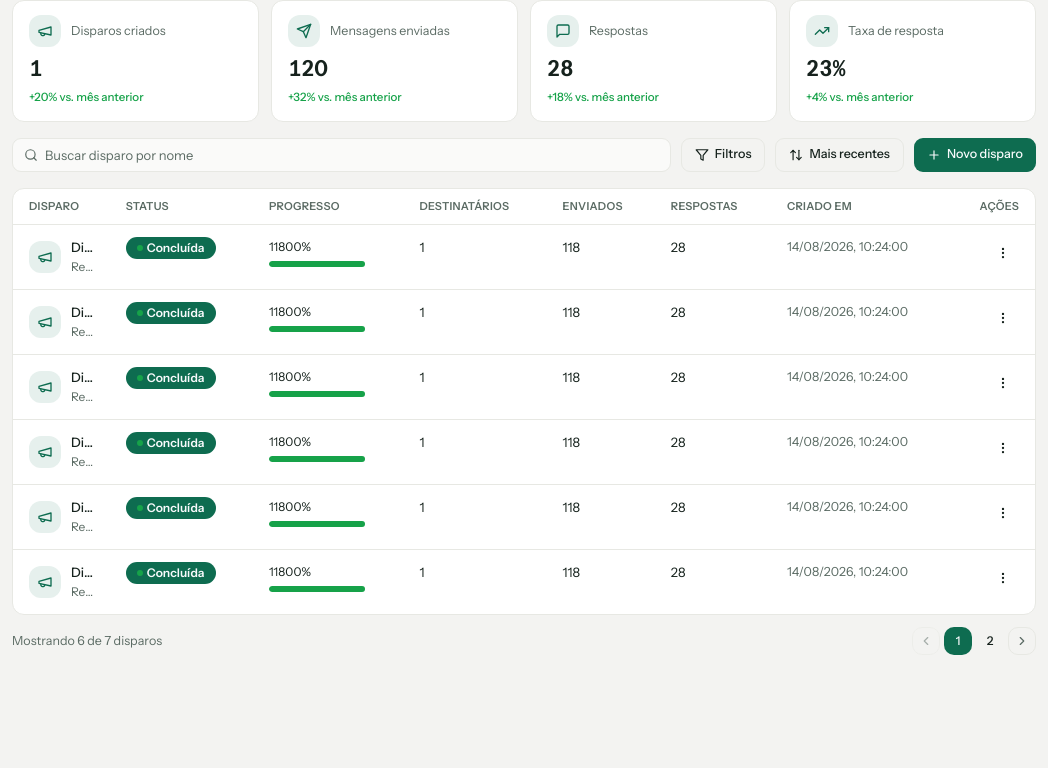
Test case: CampaignsPanel (retrofit visual 2026-08-18) › paginação: mostra "Mostrando X de Y" e navega para a página seguinte
Expected: the text "Mostrando 6 de 7 disparos" is shown, [12,632,162,650]
Click the button named "Próxima página": (1022, 641) [1008,627,1036,655]
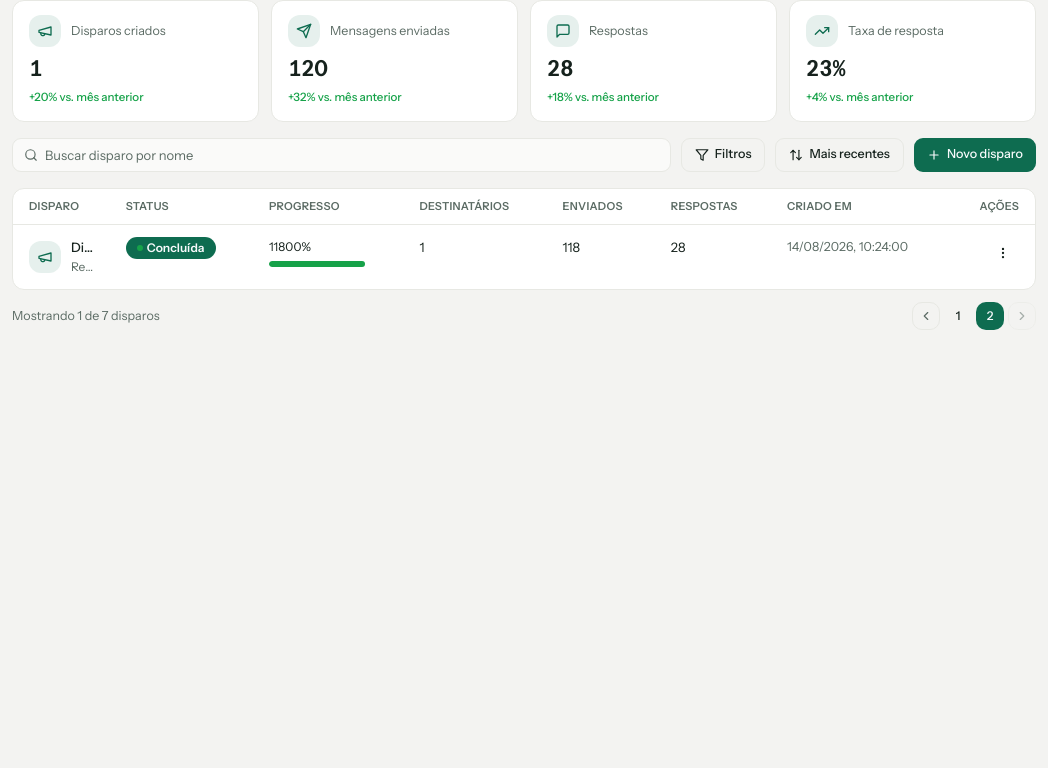
Expected: the text "Mostrando 1 de 7 disparos" is shown, [12,307,160,325]
